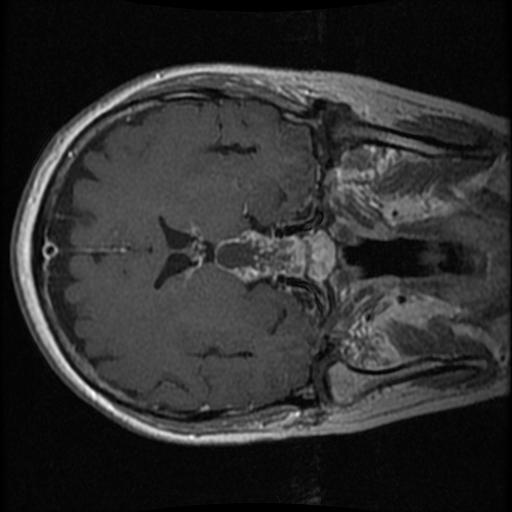pituitary tumour: (212, 230, 305, 284)
